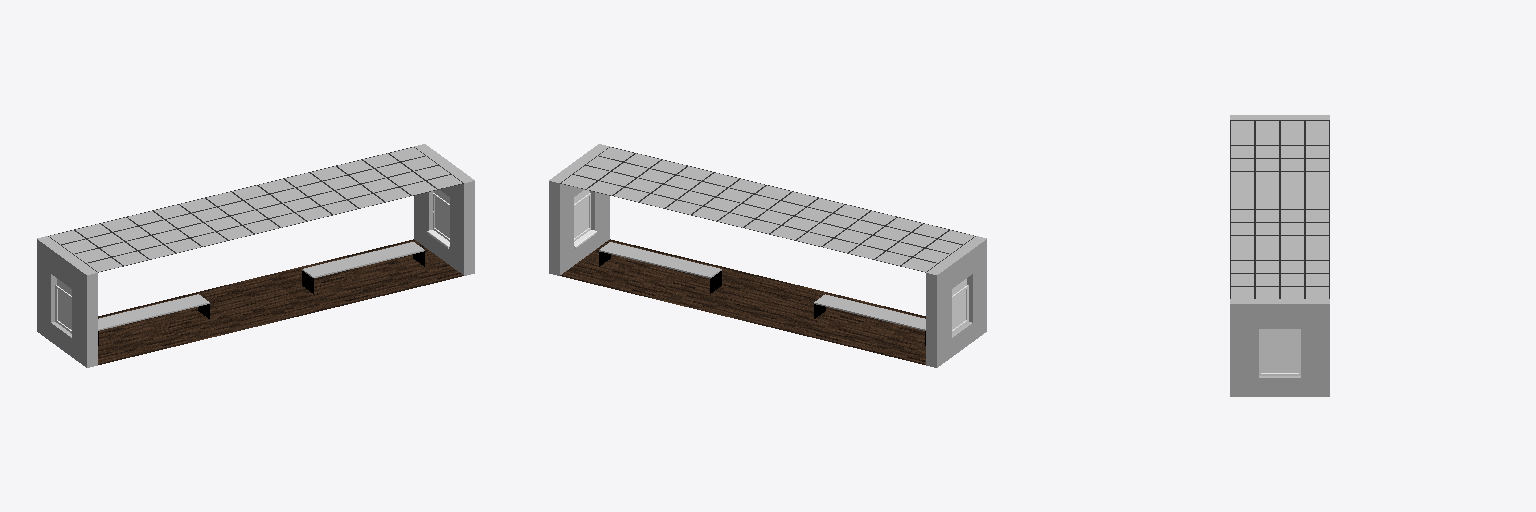
3 renders of one model, left to right at view 1: azimuth 30°, elevation 25°; view 2: azimuth 150°, elevation 25°; view 3: azimuth 270°, elevation 25°, orthographic.
Visible parts, largest first — view 1: Ceiling_B_Plane.013, Ceiling_A_Plane.004, Window_A_Plane.001, Window_B_Plane.012, Floor_C_Plane.007, Floor_F_Plane.010, Floor_E_Plane.002, Floor_D_Plane.008, Floor_G_Plane.003, Floor_B_Plane.009, Horizontal_B_Plane.011, Horizontal_A_Plane (+2 smaller); view 2: Ceiling_B_Plane.013, Ceiling_A_Plane.004, Window_A_Plane.001, Window_B_Plane.012, Floor_B_Plane.009, Floor_G_Plane.003, Floor_H_Plane.005, Floor_A_Plane.006, Floor_F_Plane.010, Floor_C_Plane.007, Horizontal_B_Plane.011, Horizontal_A_Plane (+2 smaller); view 3: Window_B_Plane.012, Ceiling_A_Plane.004, Ceiling_B_Plane.013.
Part boxes in pixels (left/top/right/bottom): Ceiling_B_Plane.013: left=231, top=147, right=463, bottom=227; Ceiling_A_Plane.004: left=48, top=191, right=279, bottom=272; Window_A_Plane.001: left=37, top=236, right=97, bottom=367; Window_B_Plane.012: left=414, top=144, right=474, bottom=275; Floor_C_Plane.007: left=165, top=302, right=280, bottom=342; Floor_F_Plane.010: left=256, top=280, right=371, bottom=320; Floor_E_Plane.002: left=348, top=258, right=463, bottom=297; Floor_D_Plane.008: left=98, top=325, right=188, bottom=364; Floor_G_Plane.003: left=232, top=262, right=346, bottom=301; Floor_B_Plane.009: left=140, top=284, right=254, bottom=324; Horizontal_B_Plane.011: left=302, top=242, right=424, bottom=277; Horizontal_A_Plane: left=98, top=294, right=209, bottom=330; Ceiling_B_Plane.013: left=560, top=147, right=792, bottom=227; Ceiling_A_Plane.004: left=744, top=191, right=975, bottom=272; Window_A_Plane.001: left=926, top=236, right=986, bottom=367; Window_B_Plane.012: left=549, top=144, right=609, bottom=275; Floor_B_Plane.009: left=743, top=302, right=858, bottom=342; Floor_G_Plane.003: left=652, top=280, right=767, bottom=320; Floor_H_Plane.005: left=560, top=258, right=675, bottom=297; Floor_A_Plane.006: left=835, top=325, right=925, bottom=364; Floor_F_Plane.010: left=677, top=262, right=791, bottom=301; Floor_C_Plane.007: left=769, top=284, right=883, bottom=324; Horizontal_B_Plane.011: left=599, top=242, right=721, bottom=278; Horizontal_A_Plane: left=814, top=294, right=925, bottom=330; Window_B_Plane.012: left=1230, top=299, right=1329, bottom=396; Ceiling_A_Plane.004: left=1230, top=120, right=1329, bottom=209; Ceiling_B_Plane.013: left=1230, top=210, right=1329, bottom=298.
Bounding box in the file's own units: 111 × 25.38 × 24.95.
Materials: 9 (1 with a texture image).